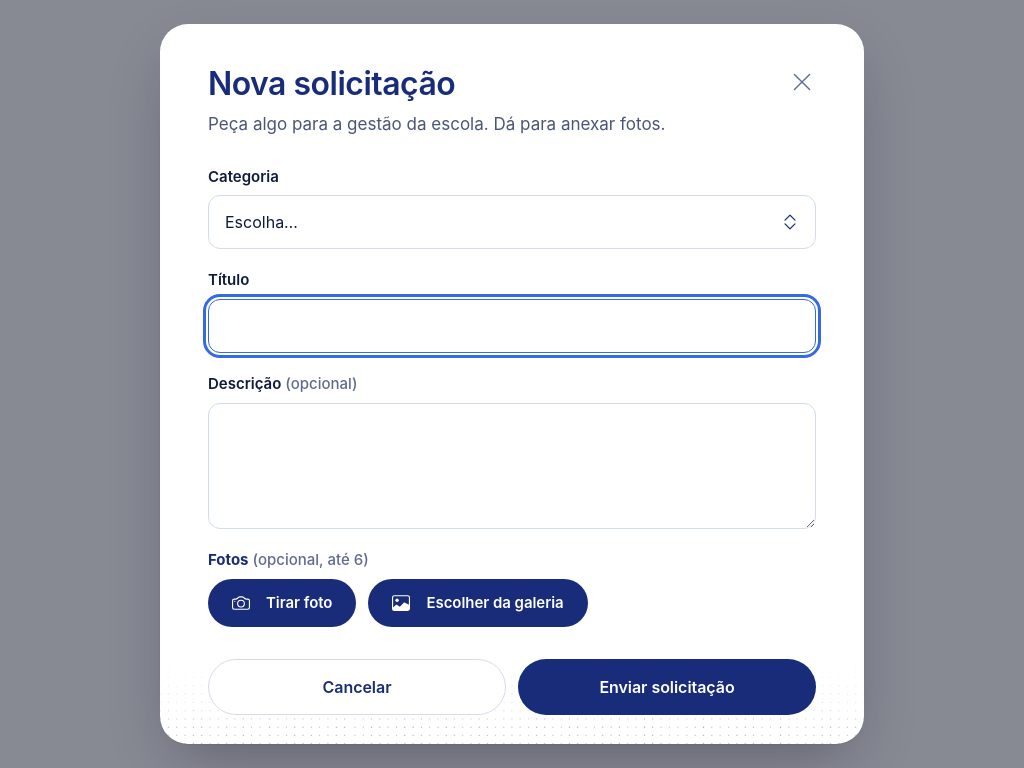
Test: Nova solicitacao › sessao que caiu ou rede fora: mensagem geral
Select "Evento" in the dropdown labelled "Categoria": (512, 222) top-left (208, 195), bottom-right (816, 249)
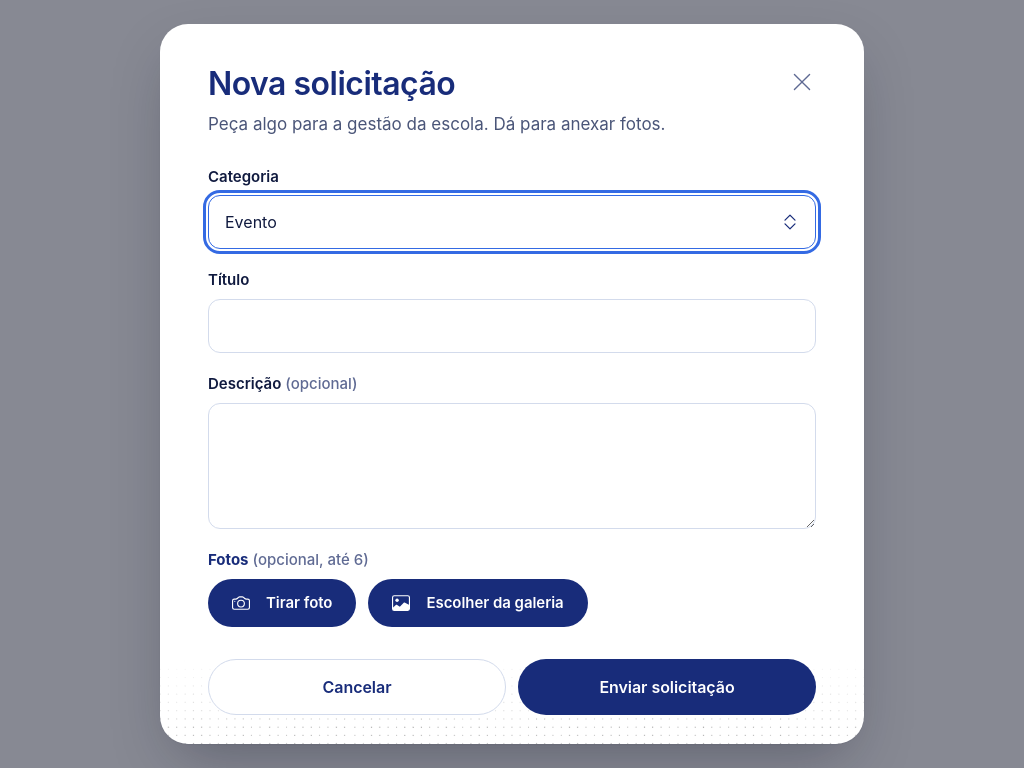
In the field labelled "Título": (512, 326) top-left (208, 299), bottom-right (816, 353), type "Festa"
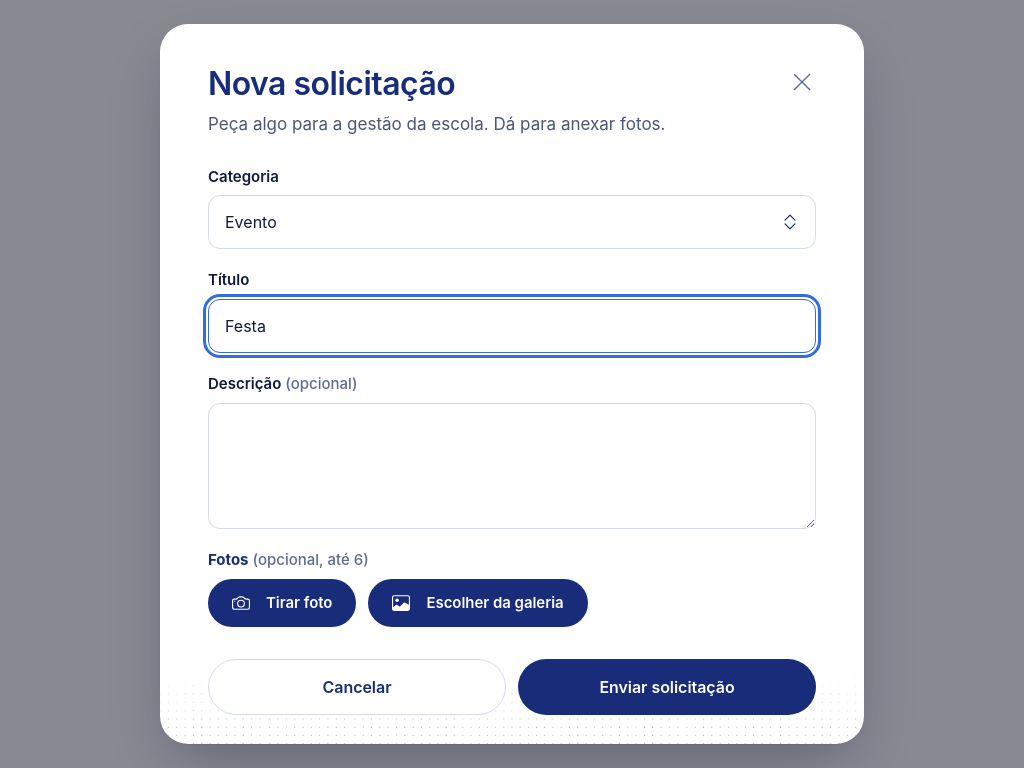
Click the button "Enviar solicitação": (667, 686) top-left (518, 658), bottom-right (816, 714)
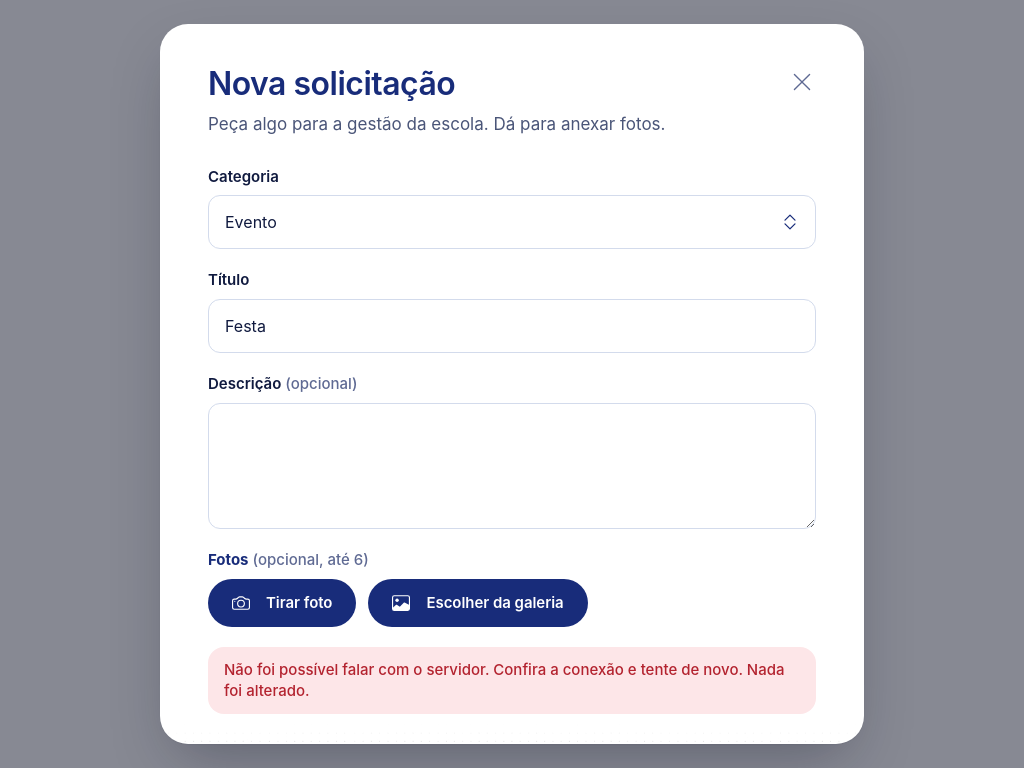
Now the message shows "Nada foi alterado", box top-left (224, 660), bottom-right (784, 700)
